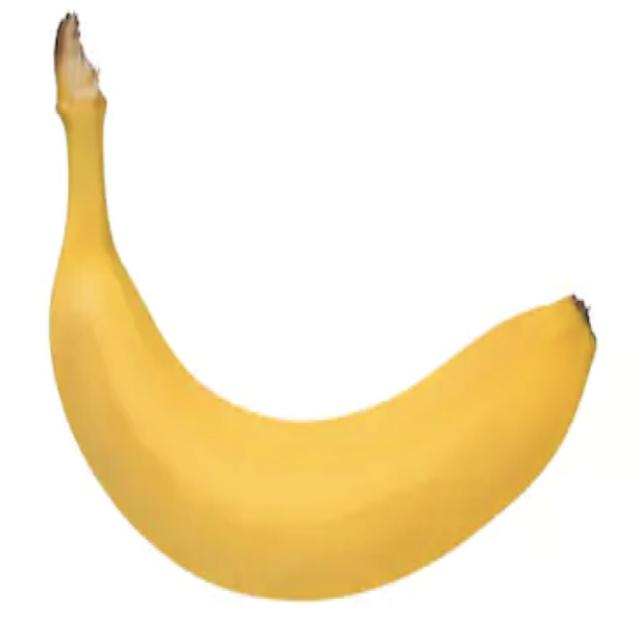fresh-banana: (47, 9, 597, 602)
